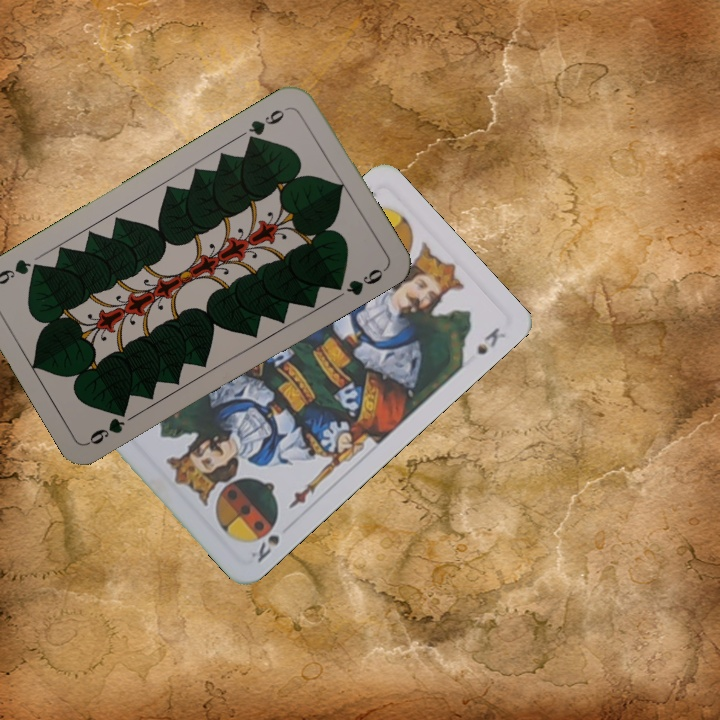G9: (84, 405, 130, 448), (243, 105, 288, 146)
SK: (246, 530, 282, 566)
